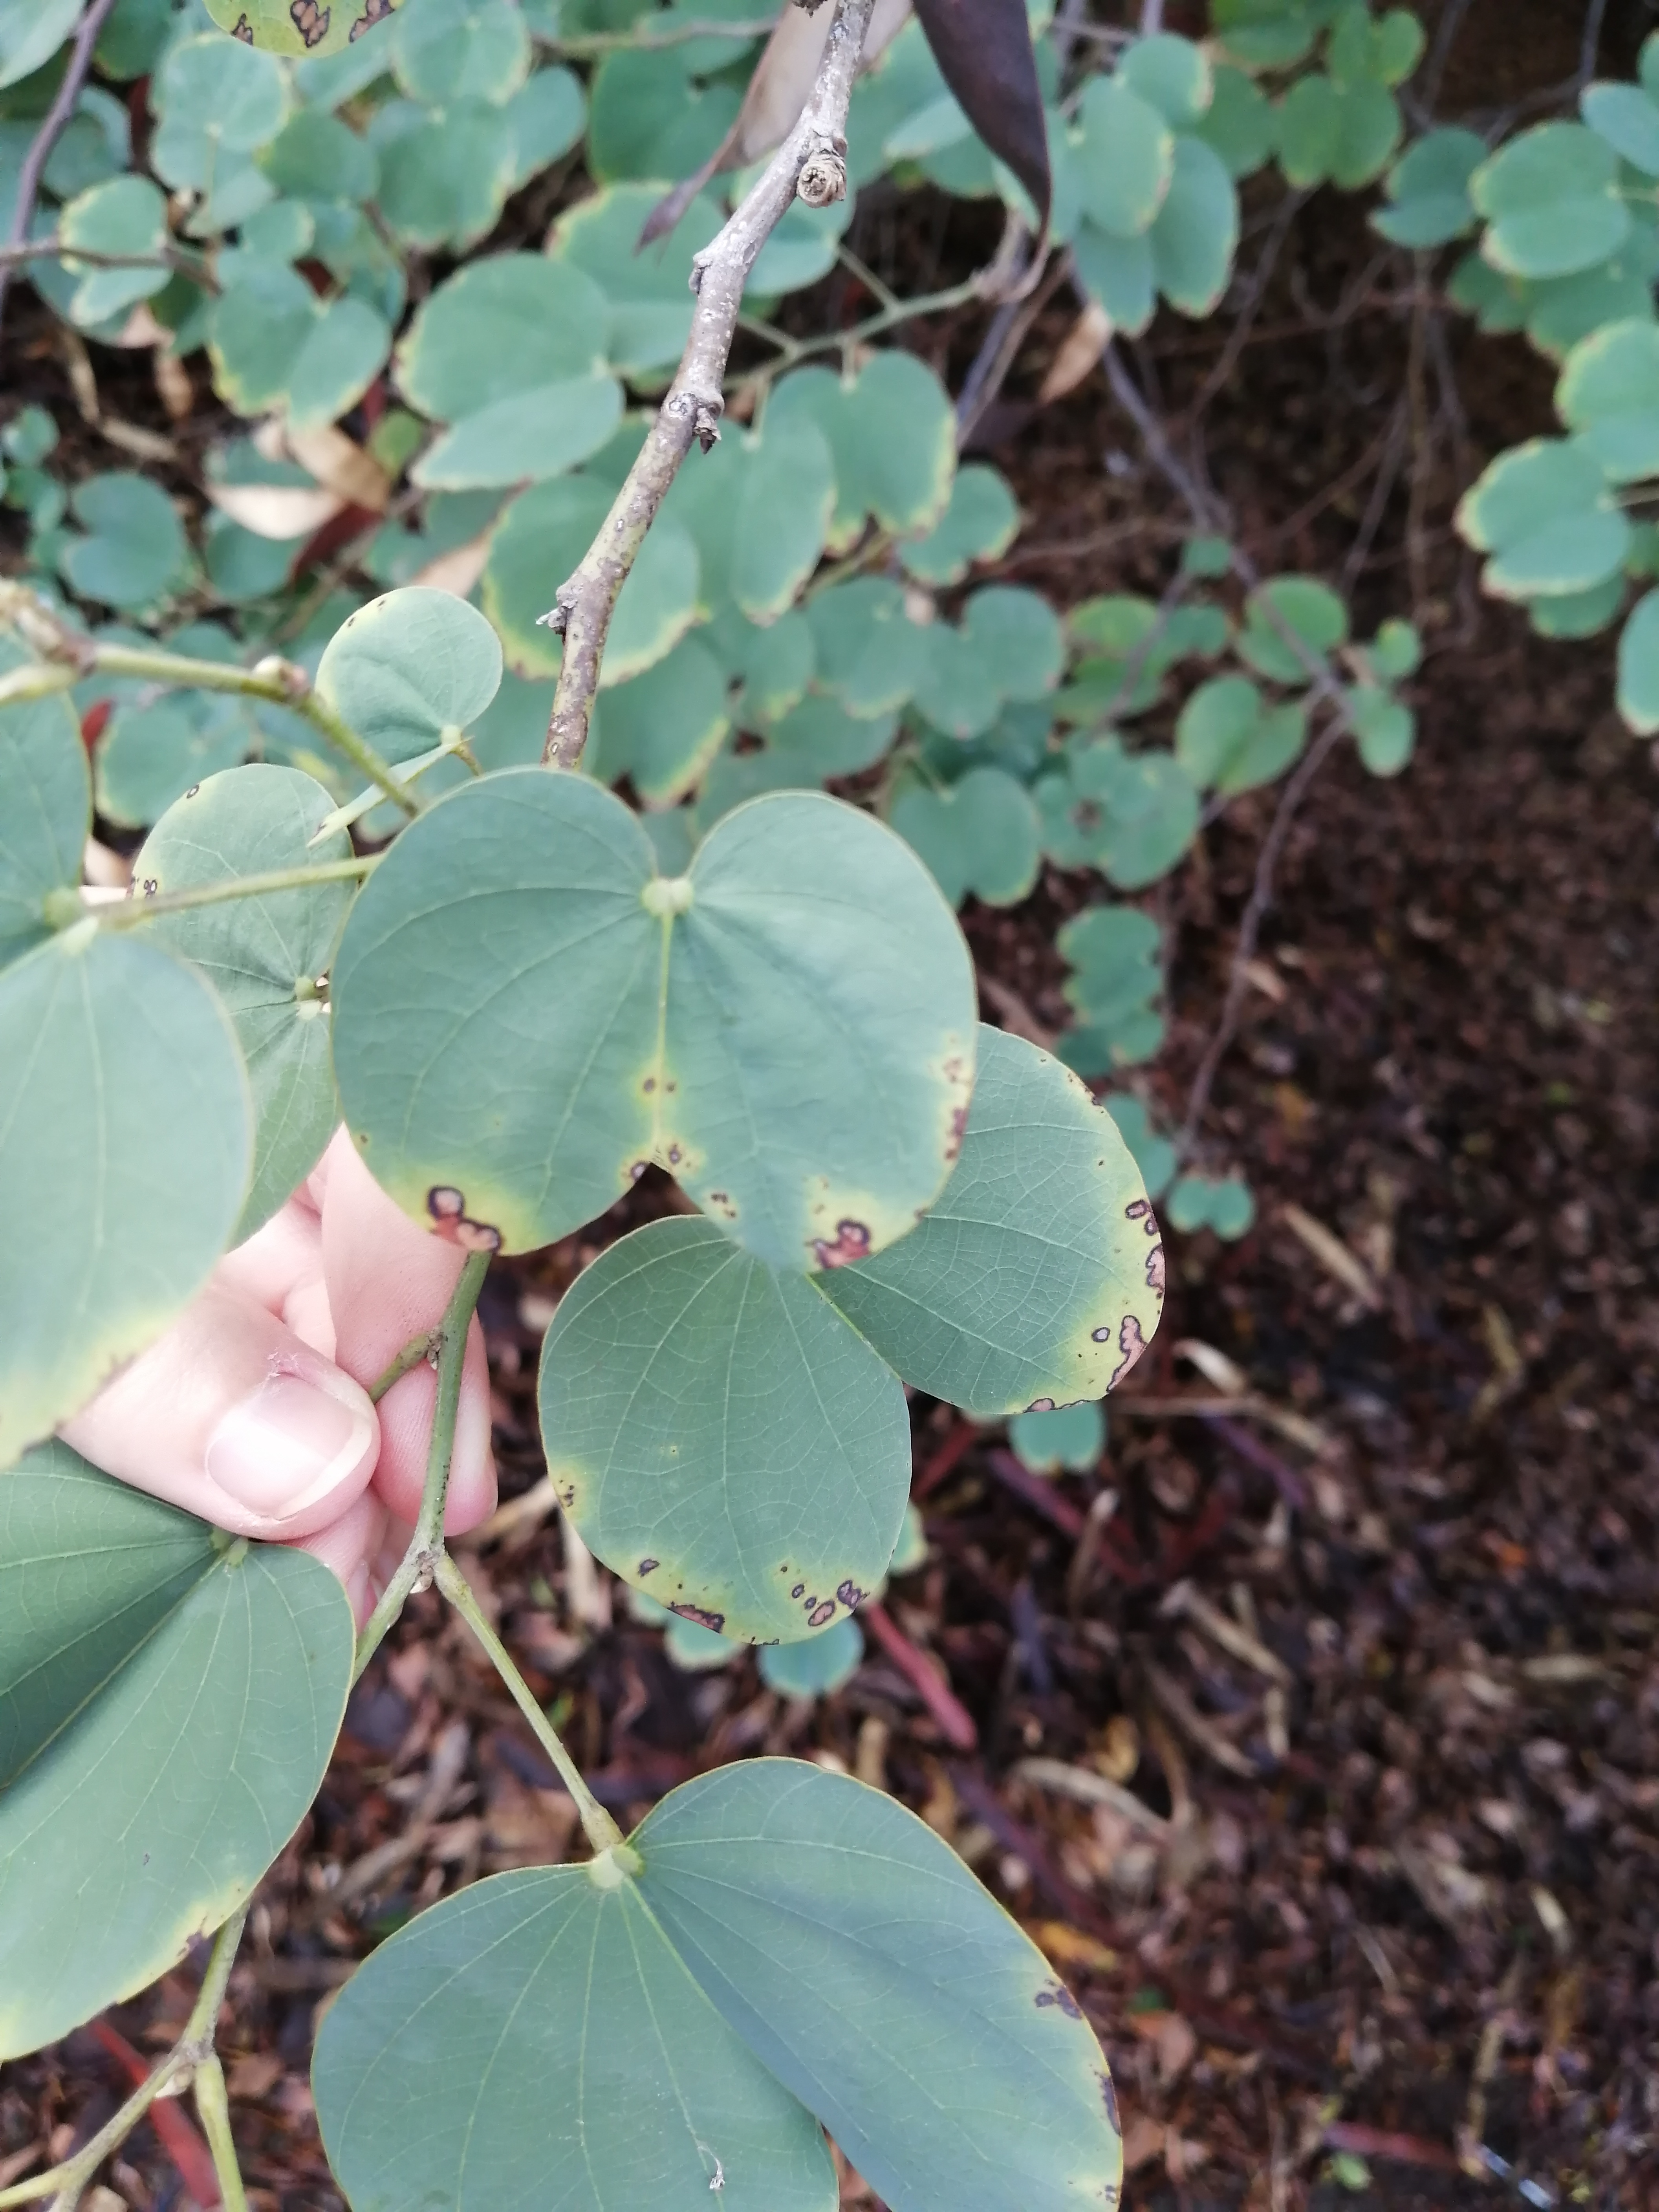nothealthy: (491, 1118, 1249, 1635), (322, 775, 969, 1285), (312, 232, 652, 514), (1403, 428, 1619, 617)
